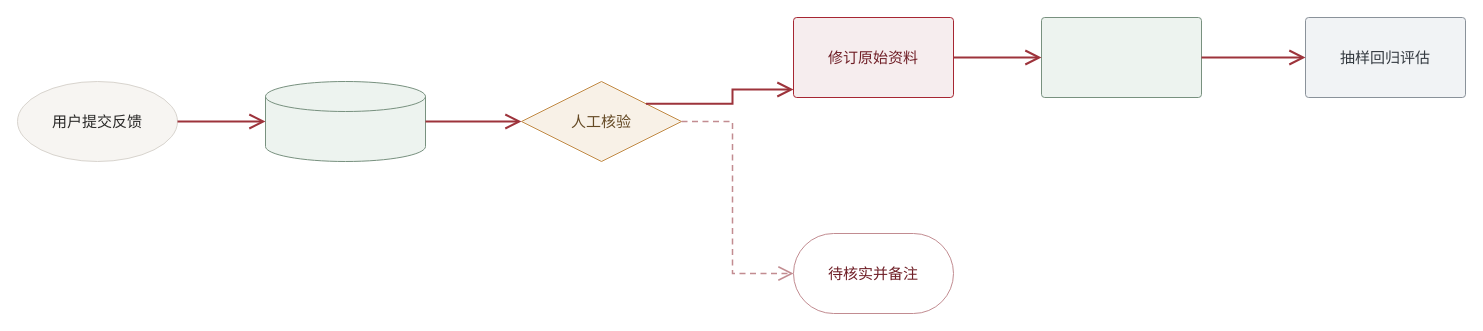
This 1483x331 diagram has some shape labels left out. The centre of each missing label's shape, as x and y in pixels:
"本机反馈存储" goes at point (345, 121).
"重建知识索引" goes at point (1121, 57).
